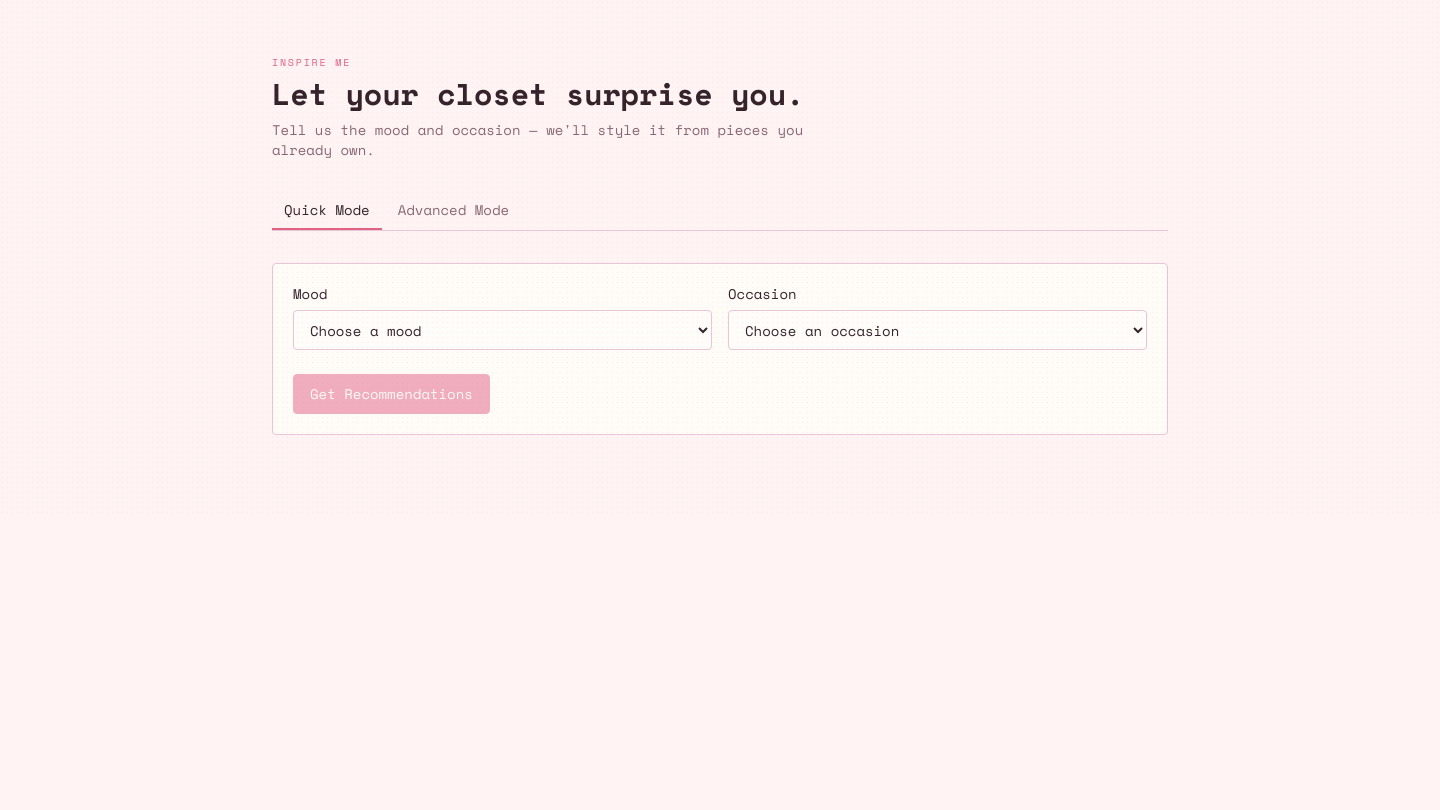
Scenario: InspireMePage › shows a compatibility-specific empty state when candidates exist but none meet the score floor
This screenshot has width=1440, height=810.
Select "Cozy" in the dropdown labelled "Mood" at (502, 330), box [293,310,712,350]
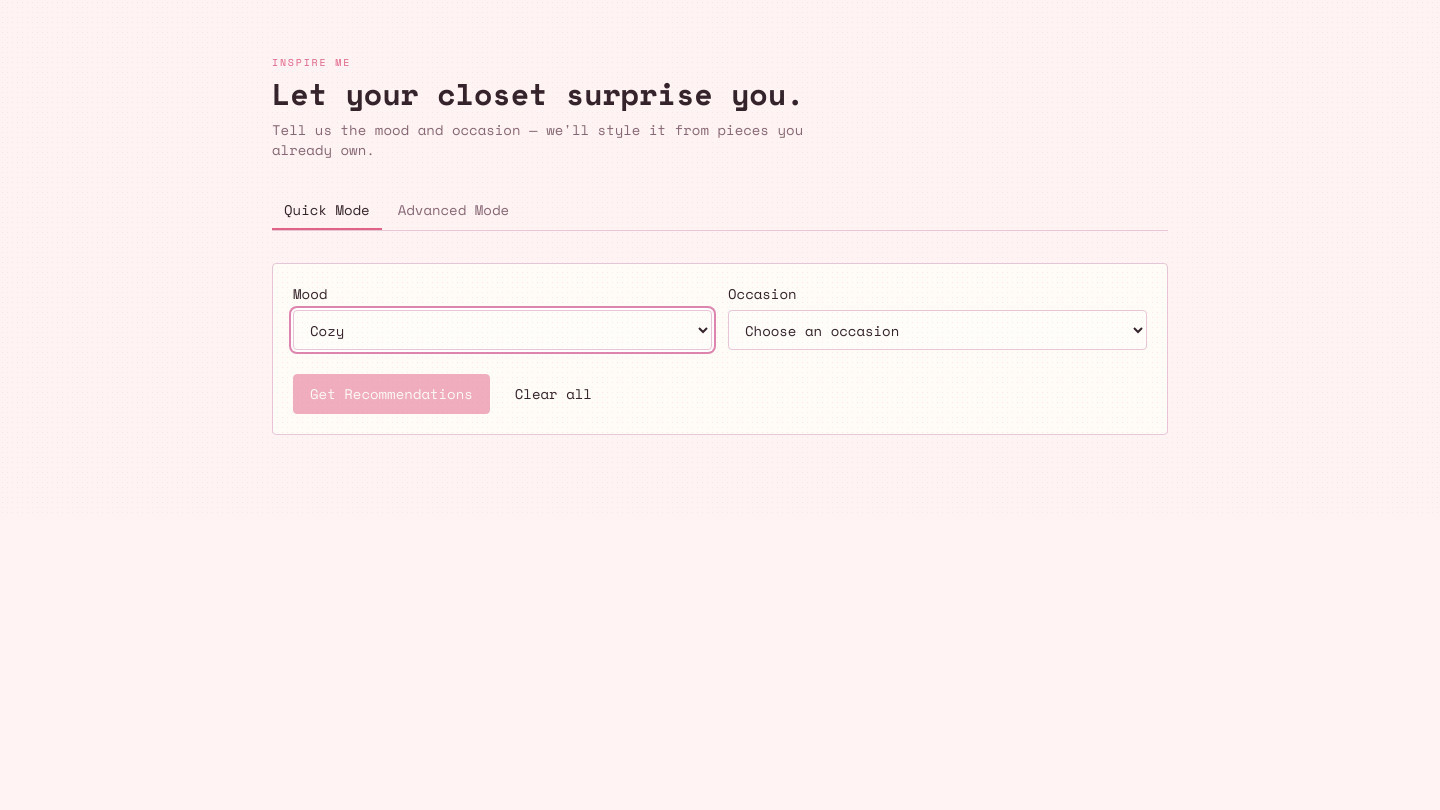
Select "Work" in the dropdown labelled "Occasion" at (938, 330), box [728,310,1147,350]
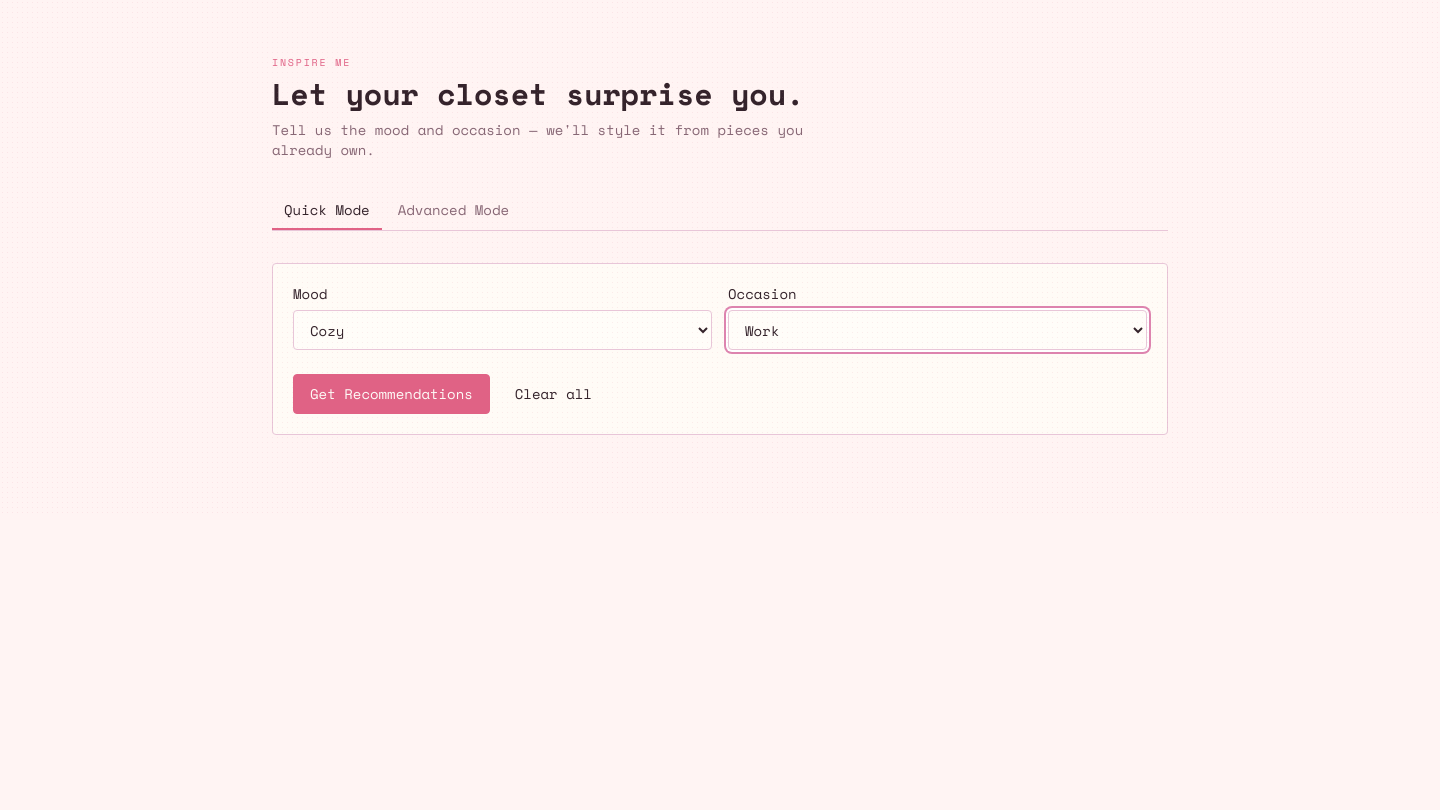
Click the button "Get Recommendations" at (391, 394), box [293,374,490,414]
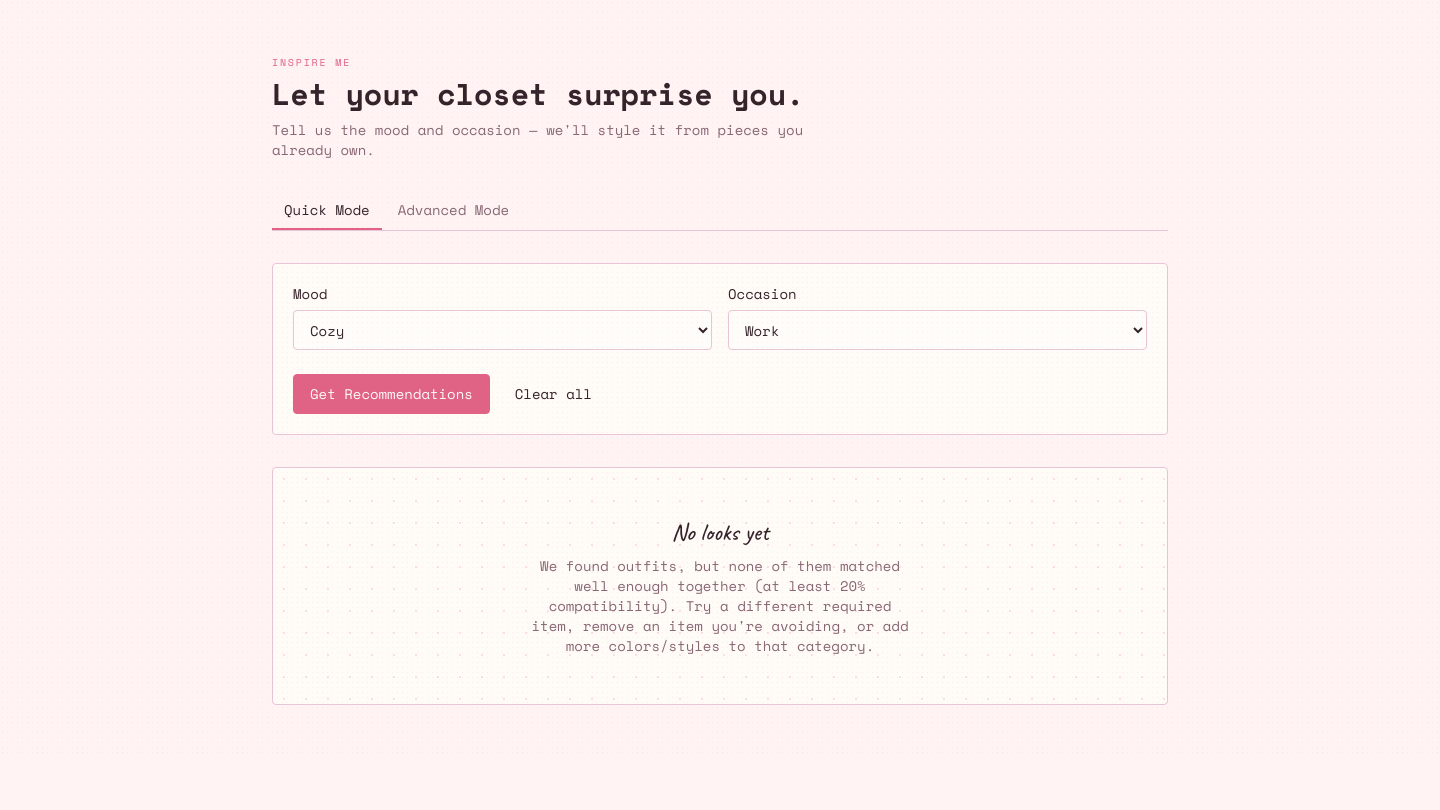
Now the text "No looks yet" is shown, box [671,516,769,548]
Now the text "none of them matched well enough together" is shown, box [532,555,908,656]
